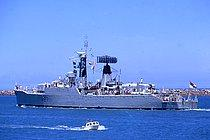MIL_Ship: (13, 51, 199, 111)
